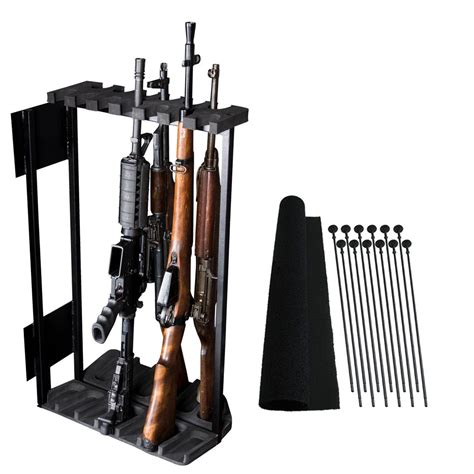gun: (139, 20, 202, 450), (91, 58, 152, 419), (146, 62, 191, 414), (195, 57, 224, 426)
